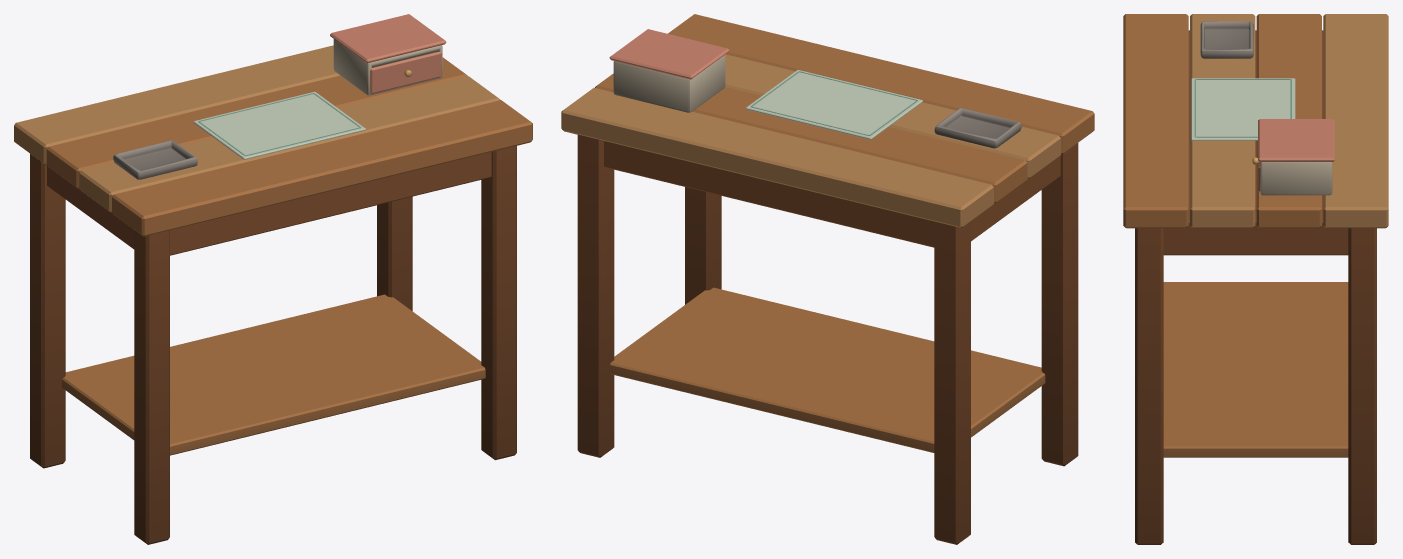
The model's file is banco.glb.
The picture shows the model from 3 angles, left to right: view 1: azimuth 30°, elevation 25°; view 2: azimuth 150°, elevation 25°; view 3: azimuth 270°, elevation 25°; orthographic projection. The views are drawn at different scales.
Parts seen in each view (by area): view 1: banco_mesh, cassetto; view 2: banco_mesh; view 3: banco_mesh.
Boxes of the visible parts, x1=… form: banco_mesh: x1=14, y1=14, x2=532, y2=544; cassetto: x1=370, y1=51, x2=441, y2=93; banco_mesh: x1=561, y1=14, x2=1094, y2=544; banco_mesh: x1=1123, y1=14, x2=1388, y2=544.
Bounding box in the file's own units: 0.8 × 0.731 × 0.46.
